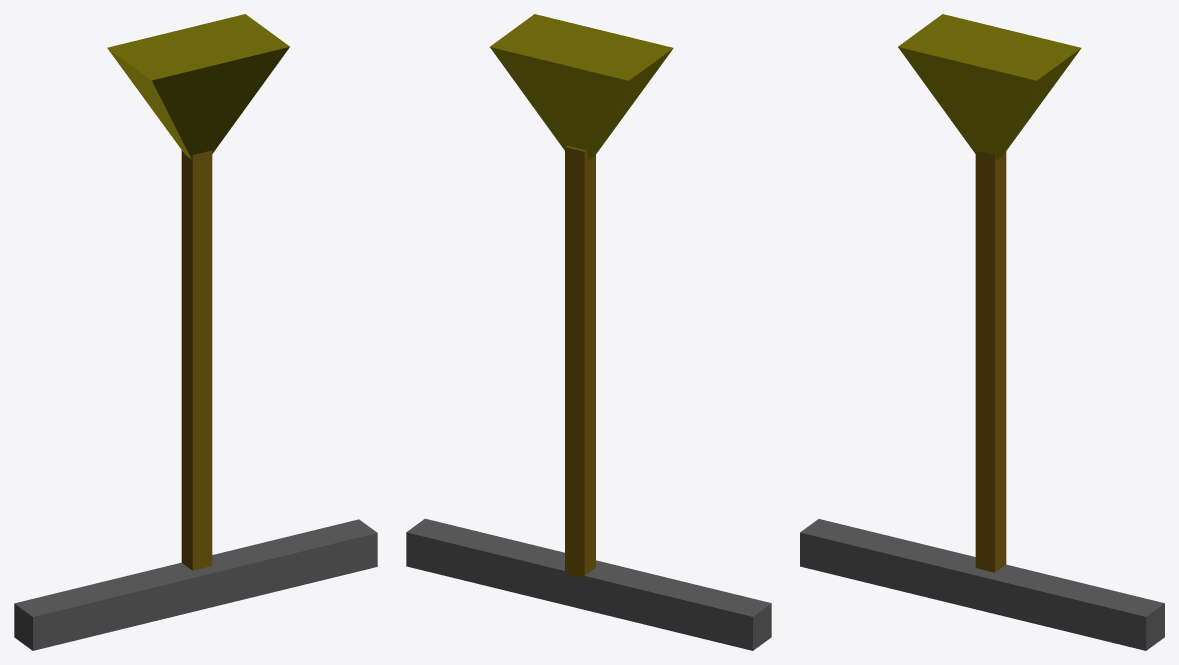
The model's file is G10_Lamp2.fbx.
The picture shows the model from 3 angles, left to right: view 1: azimuth 30°, elevation 25°; view 2: azimuth 150°, elevation 25°; view 3: azimuth 330°, elevation 25°; orthographic projection.
Parts seen in each view (by area): view 1: node_id51 (×3); view 2: node_id51 (×3); view 3: node_id51 (×3).
Part boxes in pixels (x1,y1,x2,y2): node_id51 (×3): (14, 14, 377, 650); node_id51 (×3): (406, 14, 771, 650); node_id51 (×3): (800, 14, 1164, 650).
Bounding box in the file's own units: 0.2746 × 0.4199 × 0.0617.
Materials: 3 (3 with a texture image).
